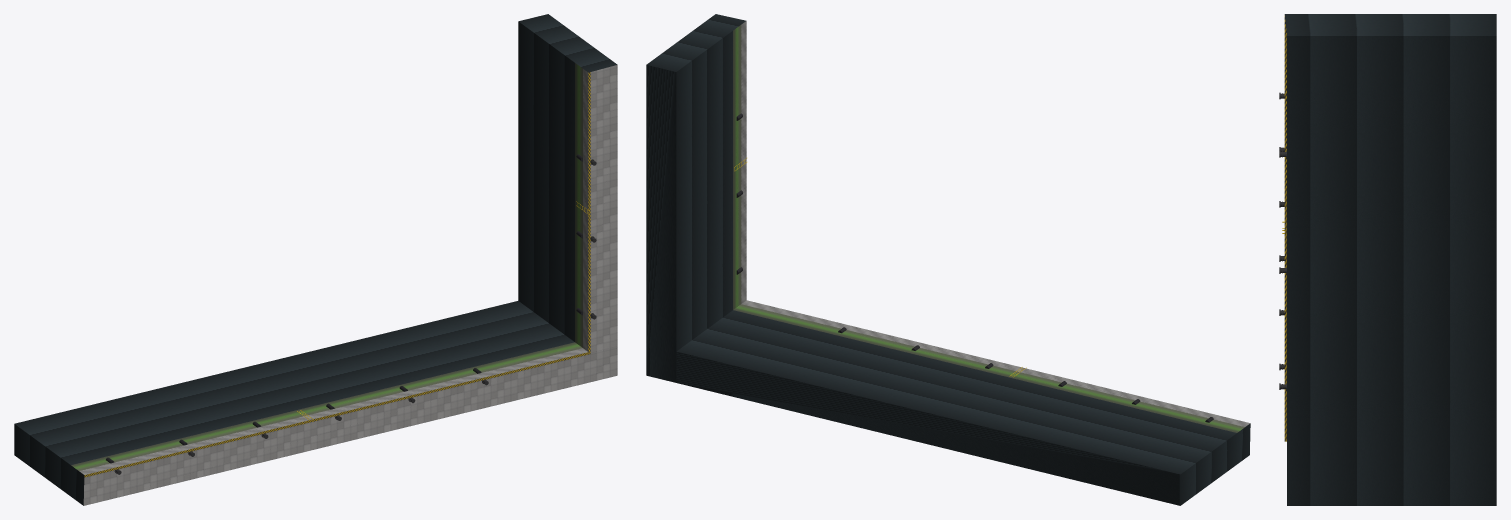
File: inner_breakwater.obj
3 renders of one model, left to right at view 1: azimuth 30°, elevation 25°; view 2: azimuth 150°, elevation 25°; view 3: azimuth 270°, elevation 25°, orthographic. The views are drawn at different scales.
Size of the model in its own units: 80 by 44.5 by 18.68.
Materials: 8 (8 with a texture image).
